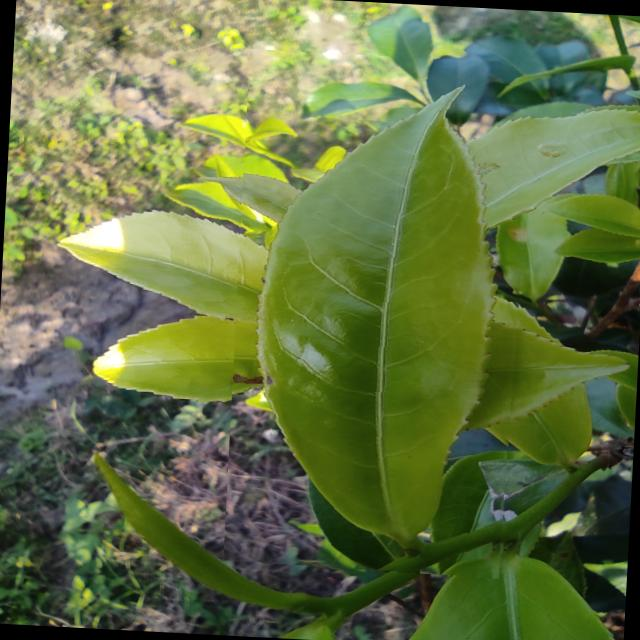Category B(2-4 days): (223, 49, 537, 579)
